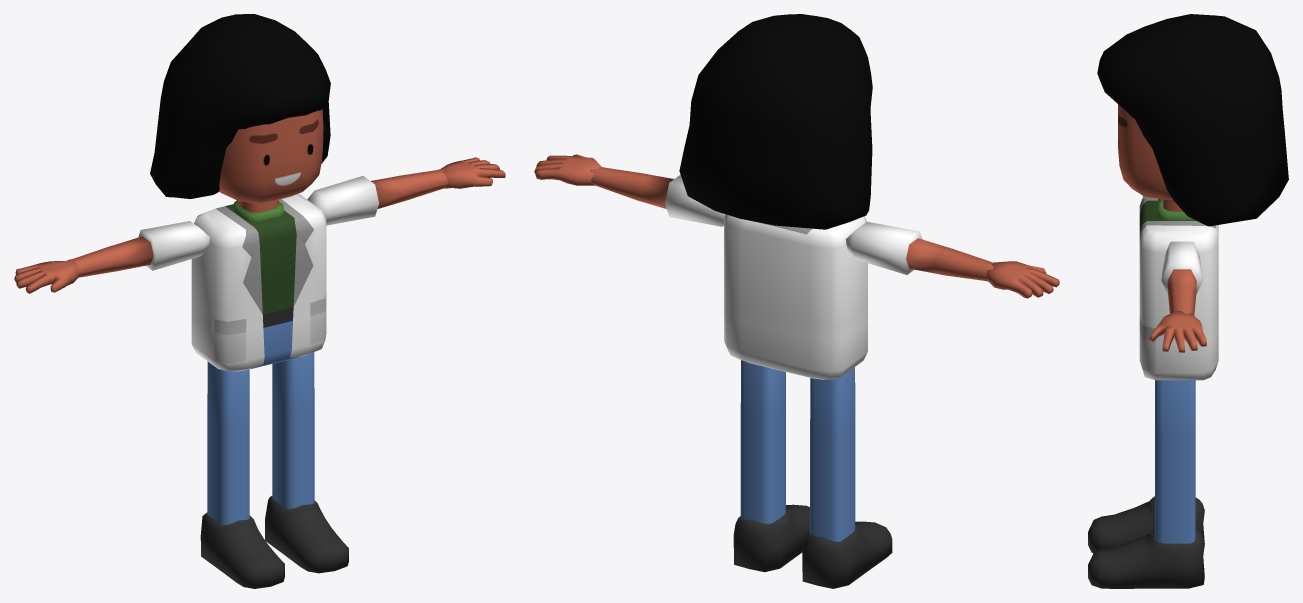
Rendered from NPC_Black02_BlackHair05.gltf.
3 views of the same model, side by side, from view 1: azimuth 30°, elevation 25°; view 2: azimuth 150°, elevation 25°; view 3: azimuth 270°, elevation 25° (orthographic). The views are drawn at different scales.
Parts seen in each view (by area): view 1: NPC_Corpo_Black2_BlackHair.005; view 2: NPC_Corpo_Black2_BlackHair.005; view 3: NPC_Corpo_Black2_BlackHair.005.
Boxes of the visible parts, box(x1,y1,x2,y2) form: NPC_Corpo_Black2_BlackHair.005: box(14, 14, 505, 588); NPC_Corpo_Black2_BlackHair.005: box(534, 14, 1059, 588); NPC_Corpo_Black2_BlackHair.005: box(1088, 14, 1288, 588).
Bounding box in the file's own units: 2.31 × 2.37 × 0.7967.
1 material, 1 textured.
